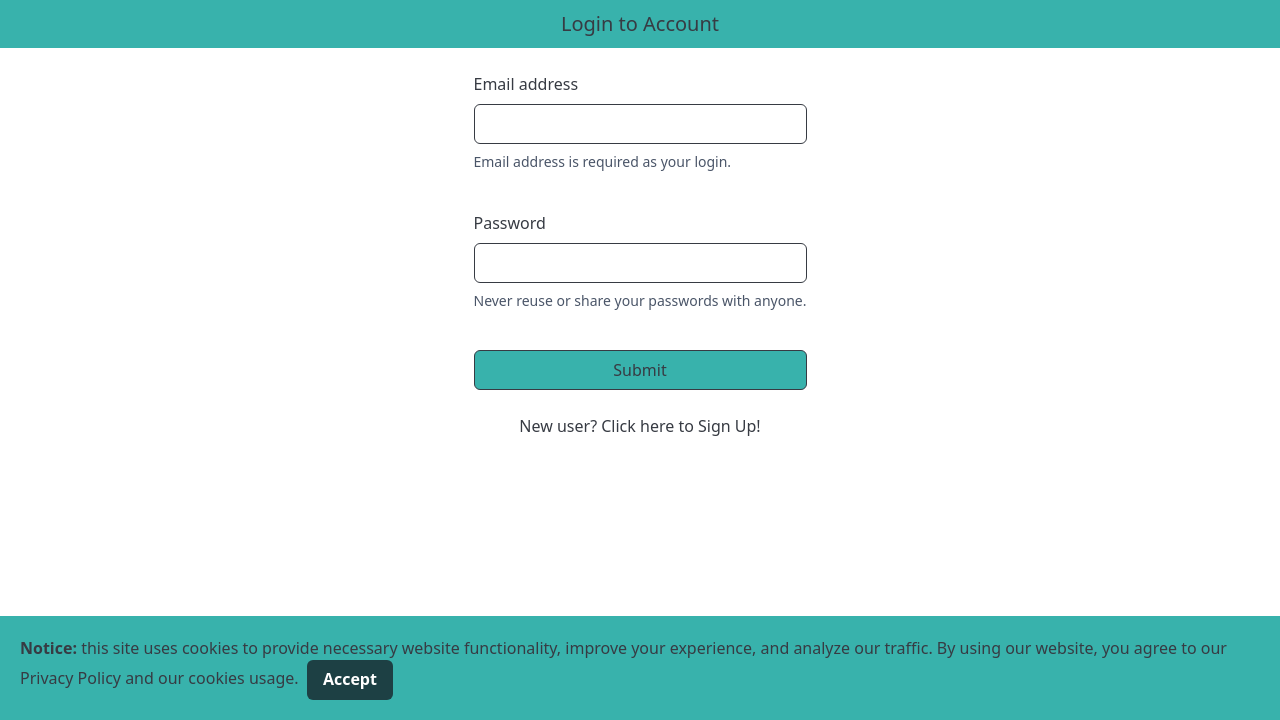
Test: Signup form submissions › Form submission valdations › shows an error message for all required inputs with nothing filled out
Click the button "New user? Click here to Sign Up!": coordinates (640, 426) [519,414,760,438]
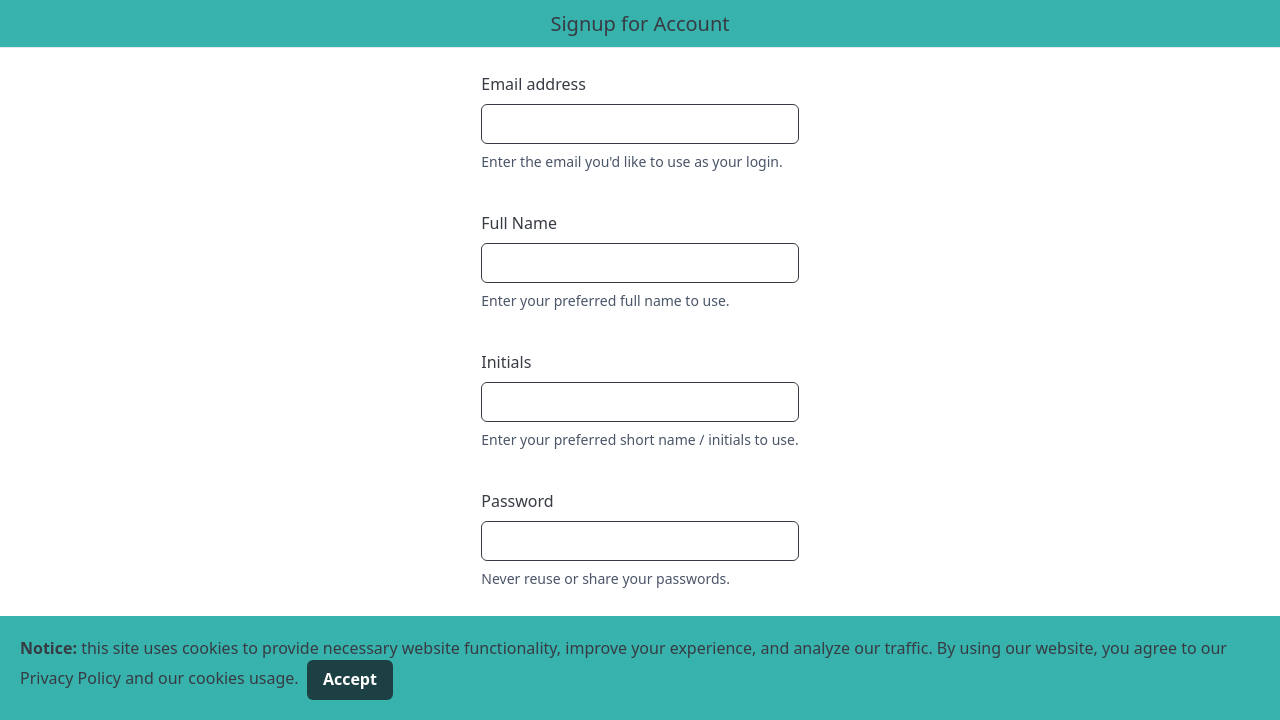
Click the button "Accept": coordinates (350, 680) [307,660,393,700]
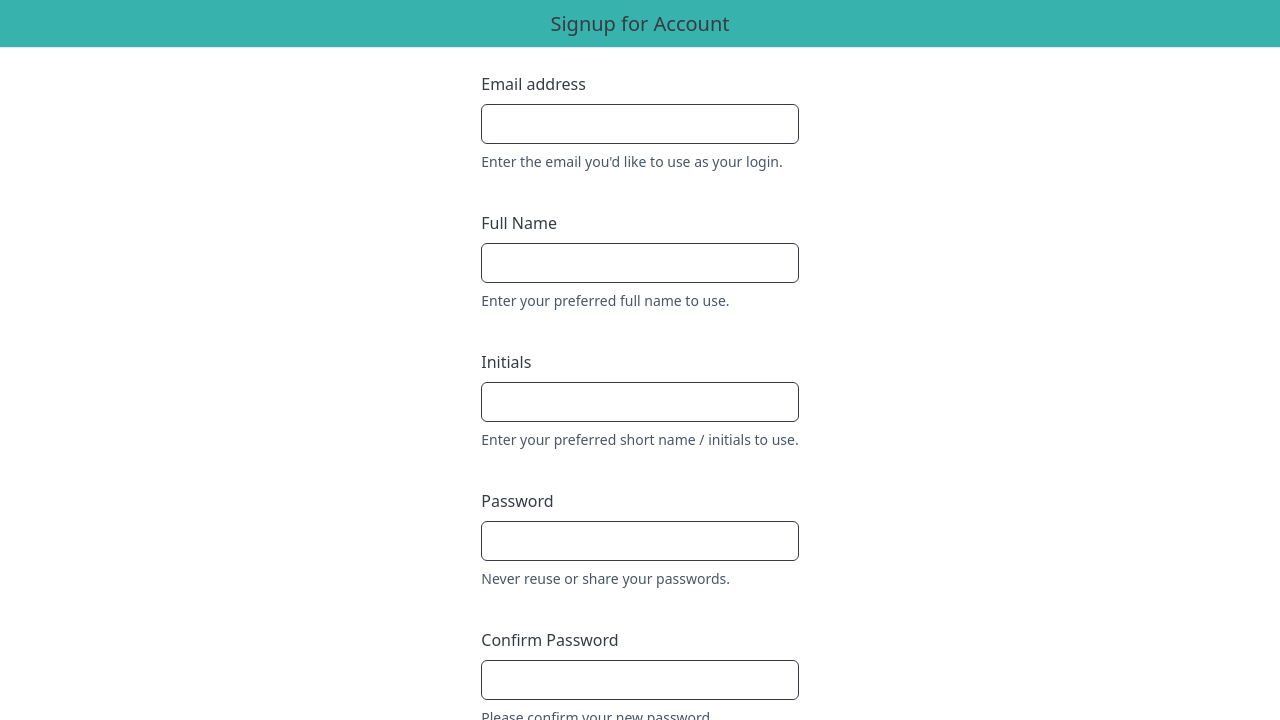
Expected: the text with test id "username-help" reads "Enter the email you'd like to use as your login.", [481,152,799,171]
Expected: the text with test id "password-help" reads "Never reuse or share your passwords.", [481,569,730,588]
Expected: the text with test id "full_name-help" reads "Enter your preferred full name to use.", [481,291,729,310]
Scroll
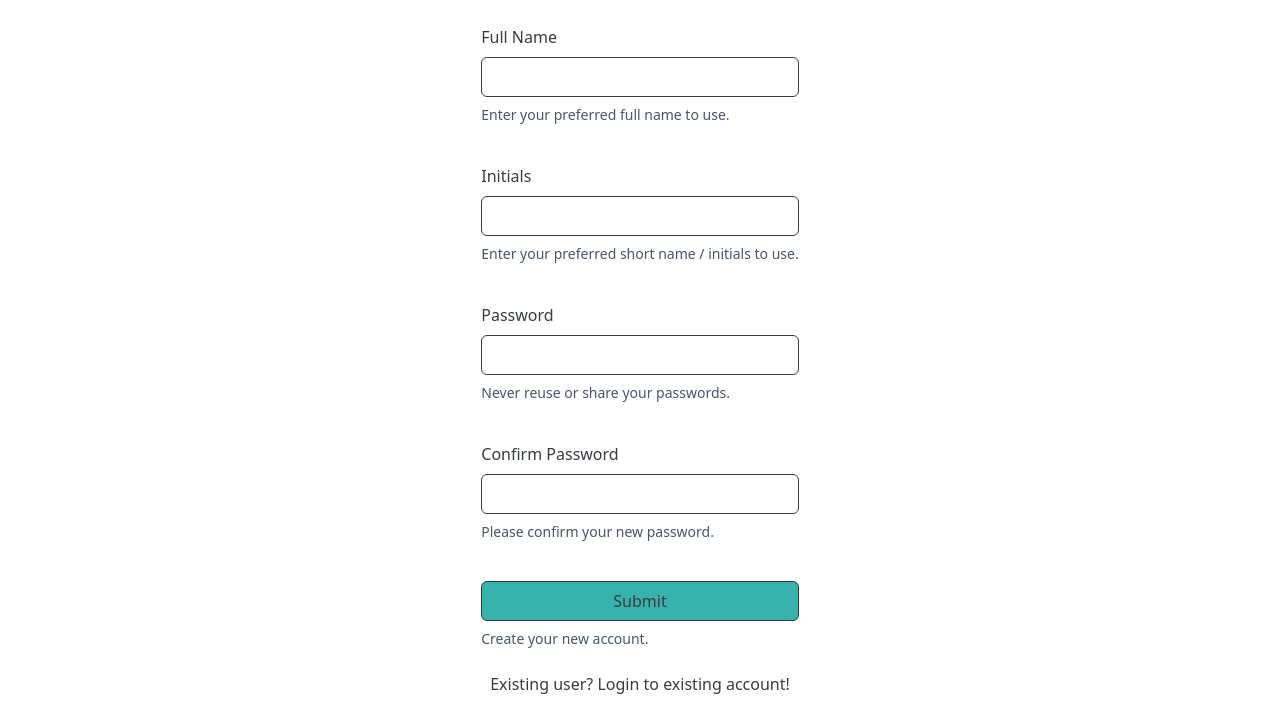
Click the button with test id "submit": coordinates (640, 601) [481,581,799,621]
(page scrolled)
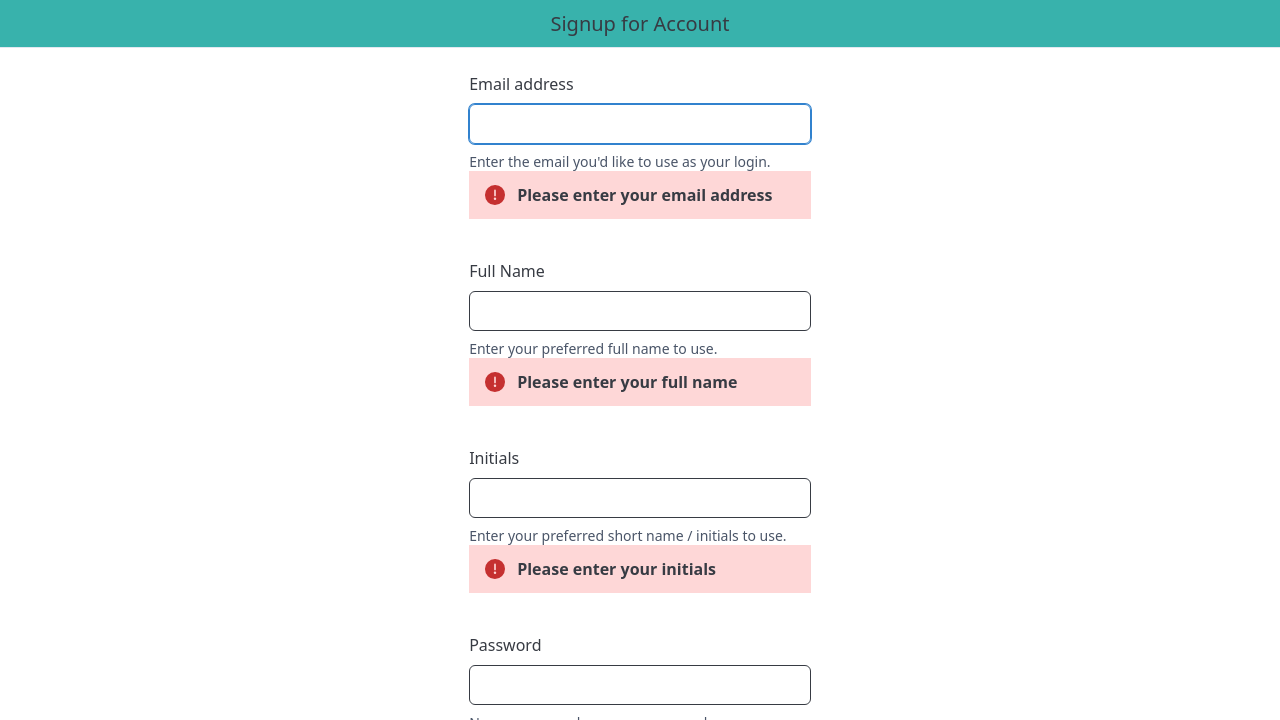
Expected: the message "Please enter your email address" is shown, [469,171,811,219]
Expected: the message "Please enter your full name" is shown, [469,358,811,406]
Expected: the message "Please enter your initials" is shown, [469,545,811,593]
